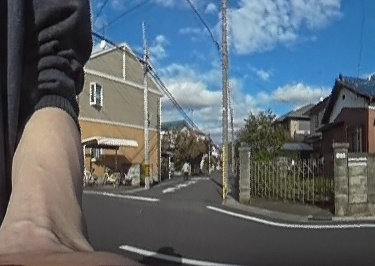person: (180, 159, 190, 178)
